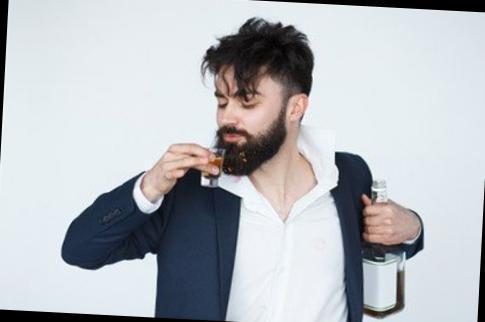Drunk: (210, 67, 284, 165)
